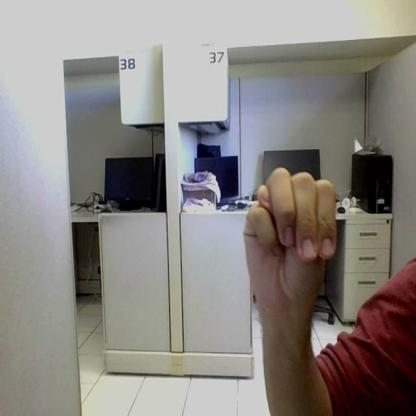M: (244, 167, 336, 300)
